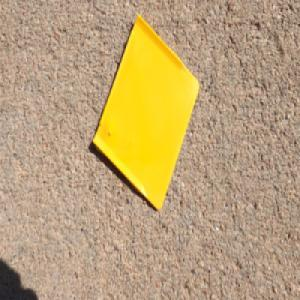PlasticPart: (90, 10, 200, 212)
